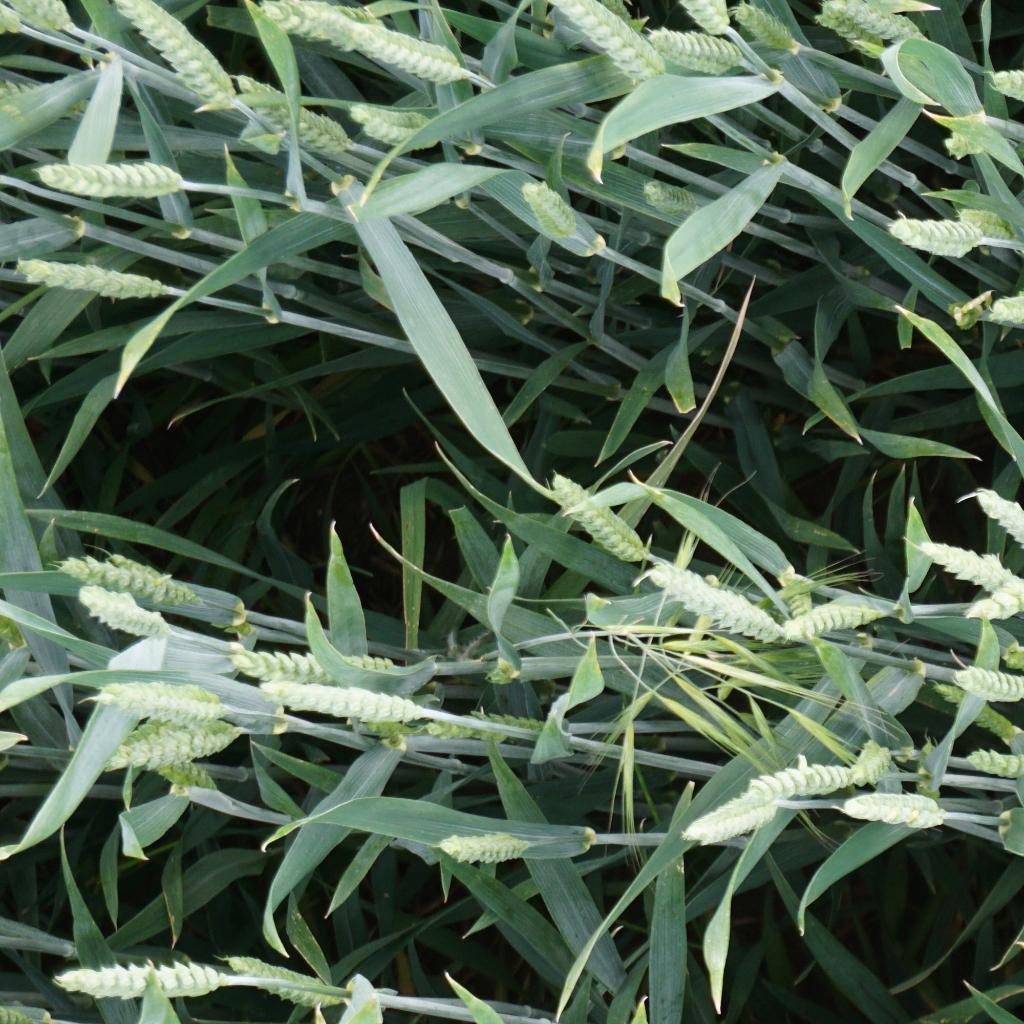0-0: (109, 0, 241, 120), (315, 8, 482, 91), (636, 560, 784, 646), (83, 715, 246, 792), (545, 0, 669, 95), (229, 69, 348, 159), (545, 466, 650, 567), (49, 553, 205, 612), (222, 946, 353, 1012), (257, 673, 422, 724), (907, 524, 1023, 596), (8, 251, 170, 301), (223, 647, 415, 689), (92, 672, 237, 726), (48, 961, 247, 1000), (680, 783, 793, 847), (331, 101, 452, 156), (822, 0, 935, 58), (33, 158, 193, 197), (67, 587, 176, 643), (927, 677, 1019, 741), (635, 25, 756, 73), (131, 746, 228, 805), (773, 602, 899, 643), (887, 214, 997, 260), (812, 4, 890, 68), (842, 789, 949, 834), (728, 0, 803, 64), (262, 0, 382, 39), (516, 176, 580, 246), (420, 709, 550, 743), (743, 757, 861, 794), (433, 828, 536, 867), (635, 176, 711, 224), (943, 663, 1024, 707), (956, 201, 1022, 254), (976, 486, 1024, 554), (0, 0, 81, 38), (966, 576, 1024, 624), (667, 0, 737, 39), (848, 734, 898, 788), (19, 86, 95, 121), (779, 557, 815, 626), (960, 748, 1024, 783), (352, 711, 419, 740), (984, 65, 1024, 109), (985, 290, 1024, 331), (944, 129, 990, 160)
